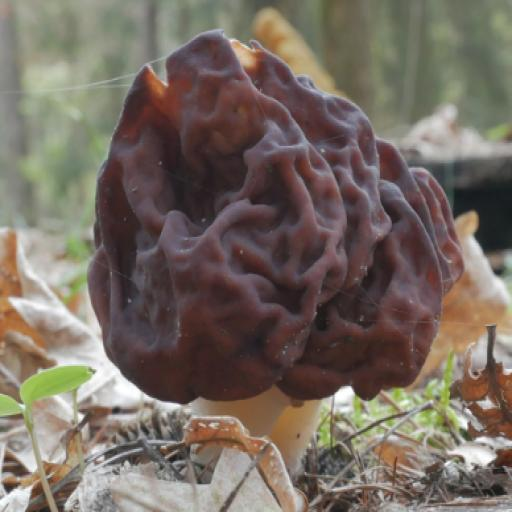False Morel: (86, 28, 477, 430)
